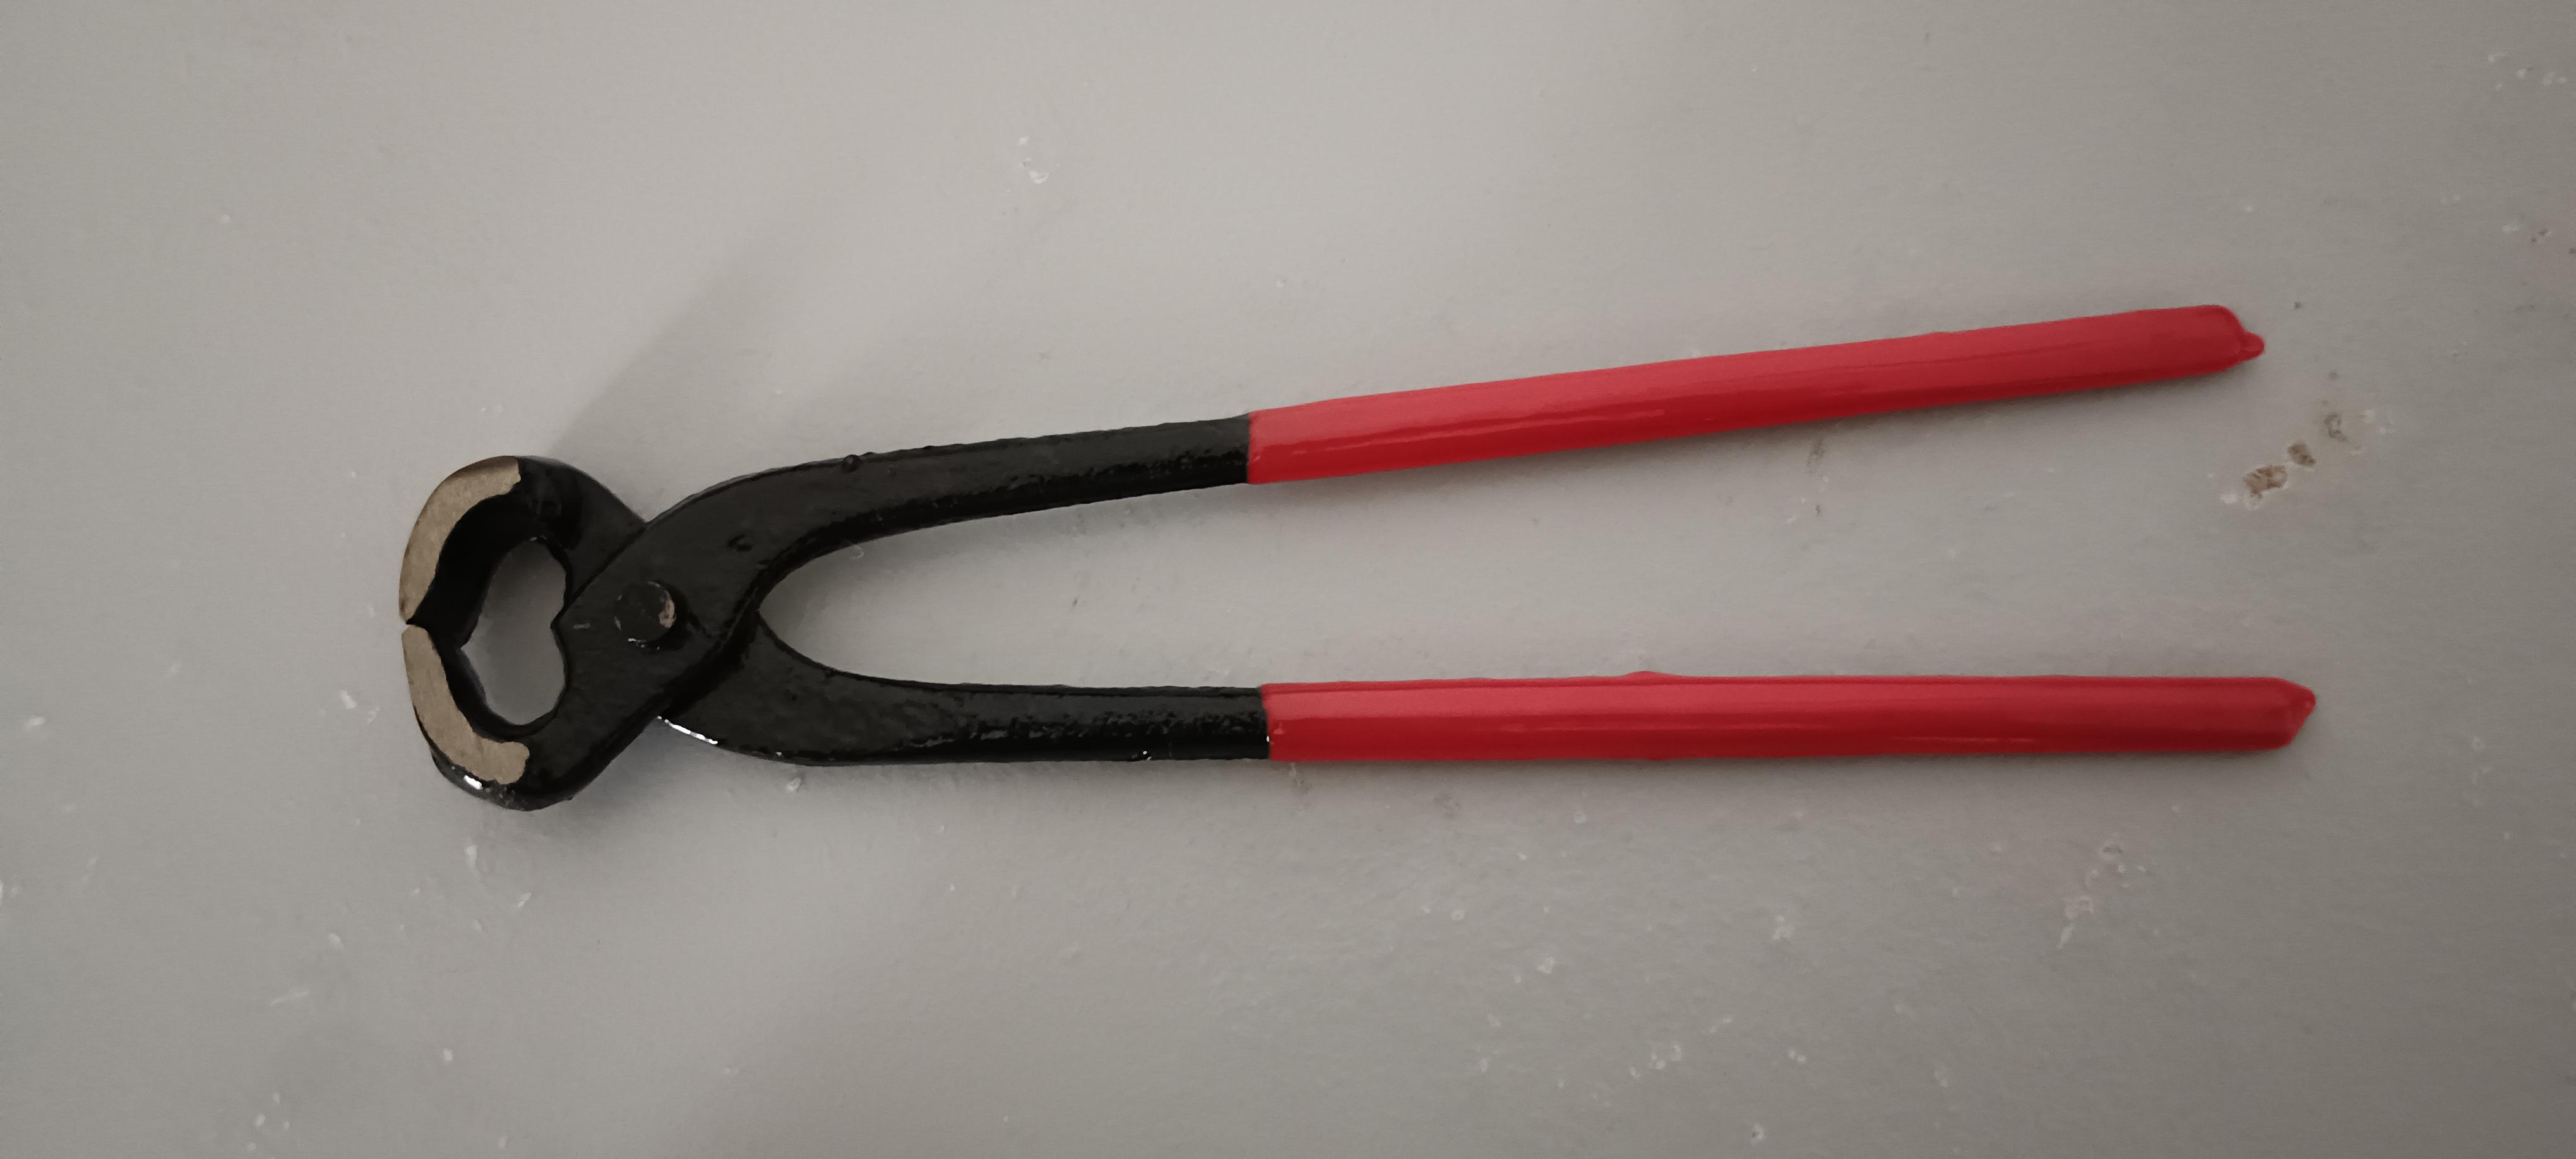Pincers: (356, 259, 2356, 821)
